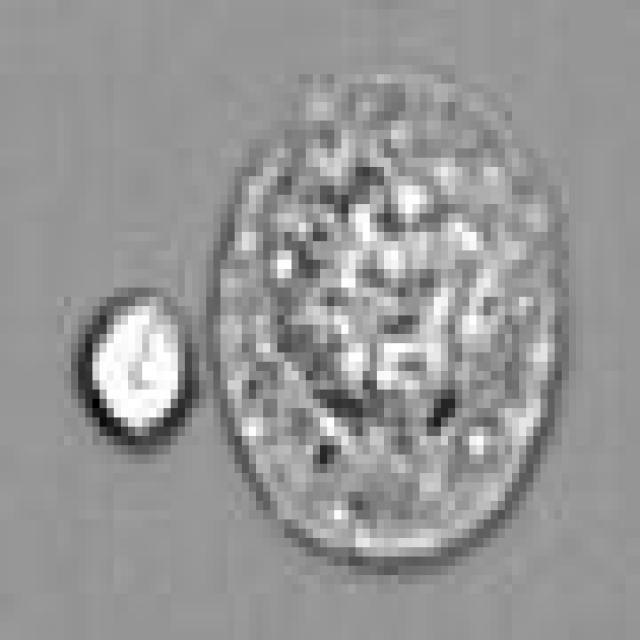Cancer Cell: (220, 65, 576, 556)
WBC: (78, 288, 192, 445)
